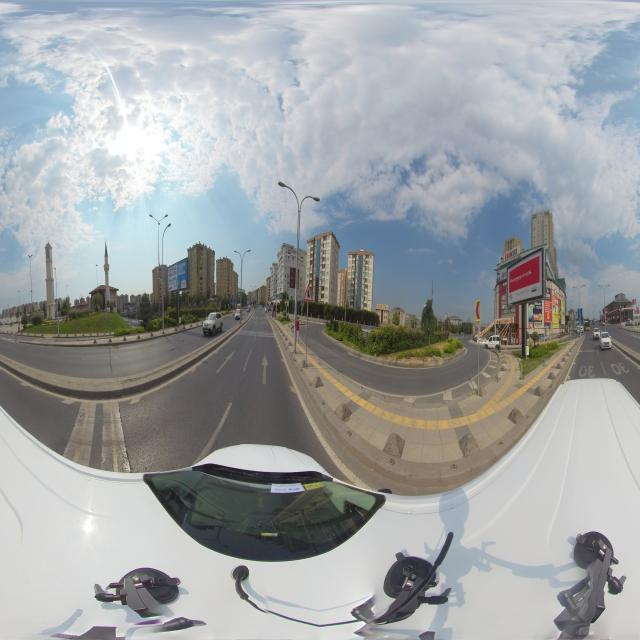SignStore: (497, 317, 513, 324)
